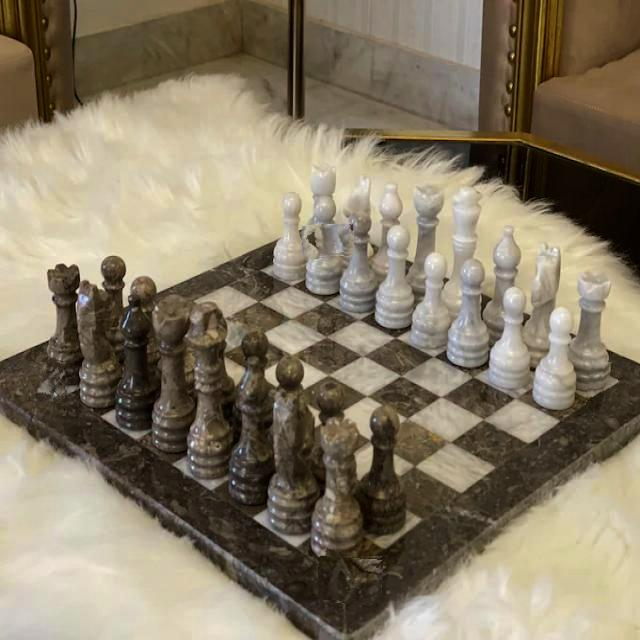chess-table-corners: (318, 552, 384, 603), (586, 361, 633, 418), (301, 224, 354, 259), (26, 359, 66, 403)
